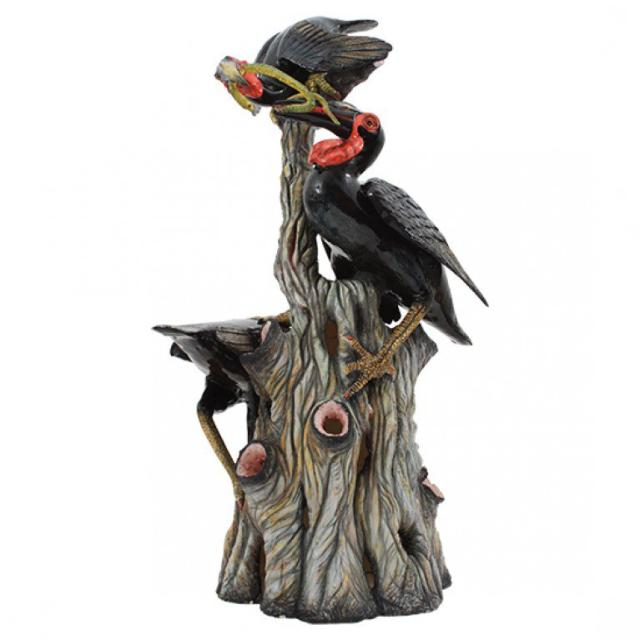Hornbill: (306, 103, 486, 377), (208, 10, 393, 115)
